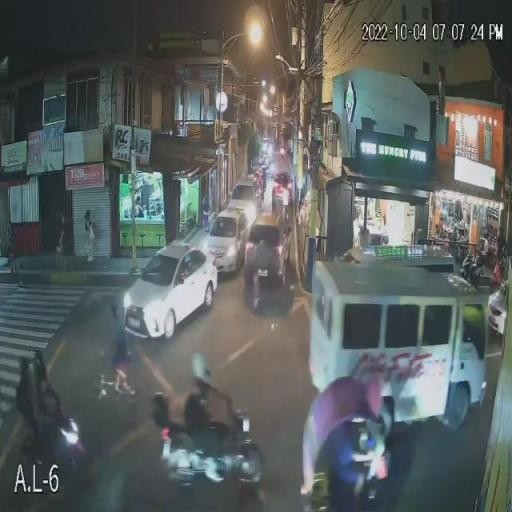helmet: (191, 353, 212, 389), (35, 352, 48, 388), (16, 358, 30, 388)
motorcycle: (152, 414, 263, 494), (14, 415, 89, 472)
rider: (188, 358, 226, 460), (33, 352, 53, 428), (13, 356, 30, 430)
